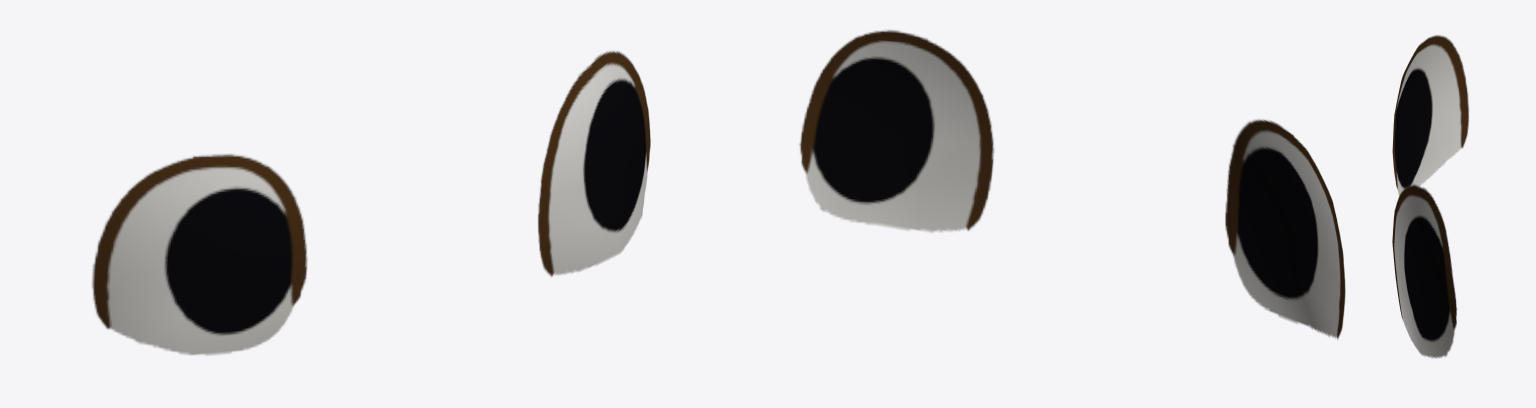
File: eye 07.glb
3 renders of one model, left to right at view 1: azimuth 30°, elevation 25°; view 2: azimuth 150°, elevation 25°; view 3: azimuth 270°, elevation 25°, orthographic. The views are drawn at different scales.
Visible parts, largest first — view 1: Eye_7; view 2: Eye_7; view 3: Eye_7.
Part boxes in pixels (x1=…): Eye_7: x1=91, y1=50, x2=650, y2=355; Eye_7: x1=799, y1=29, x2=1345, y2=339; Eye_7: x1=1392, y1=35, x2=1469, y2=358.
Bounding box in the file's own units: 0.00677 × 0.00271 × 0.00151.
1 material, 1 textured.
